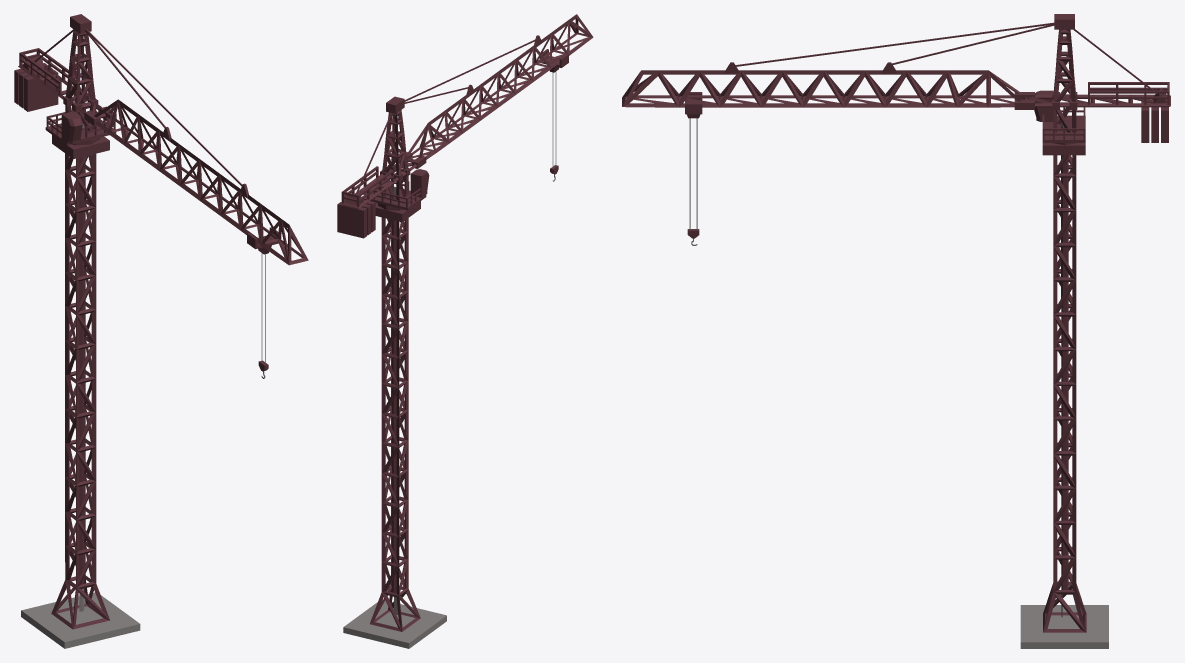
Rendered from crane-tower.fbx.
3 views of the same model, side by side, from view 1: azimuth 30°, elevation 25°; view 2: azimuth 150°, elevation 25°; view 3: azimuth 270°, elevation 25° (orthographic). The views are drawn at different scales.
Visible parts, largest first — view 1: crane-tower-base, crane-tower-top, crane-tower-hook; view 2: crane-tower-base, crane-tower-top, crane-tower-hook; view 3: crane-tower-top, crane-tower-base.
Part boxes in pixels (x1=…): crane-tower-base: x1=21, y1=123, x2=140, y2=648; crane-tower-top: x1=14, y1=14, x2=308, y2=265; crane-tower-hook: x1=258, y1=253, x2=268, y2=378; crane-tower-base: x1=343, y1=187, x2=446, y2=648; crane-tower-top: x1=337, y1=14, x2=593, y2=238; crane-tower-hook: x1=550, y1=71, x2=558, y2=181; crane-tower-top: x1=622, y1=14, x2=1170, y2=145; crane-tower-base: x1=1020, y1=121, x2=1108, y2=648.
Bounding box in the file's own units: 8.99 × 68.71 × 55.7.
